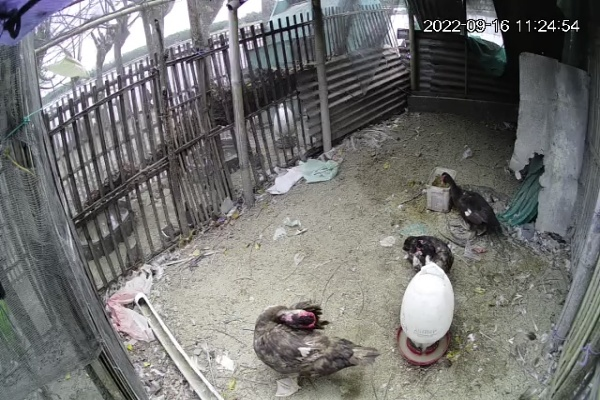Entog: (251, 300, 381, 379), (436, 168, 508, 244)
